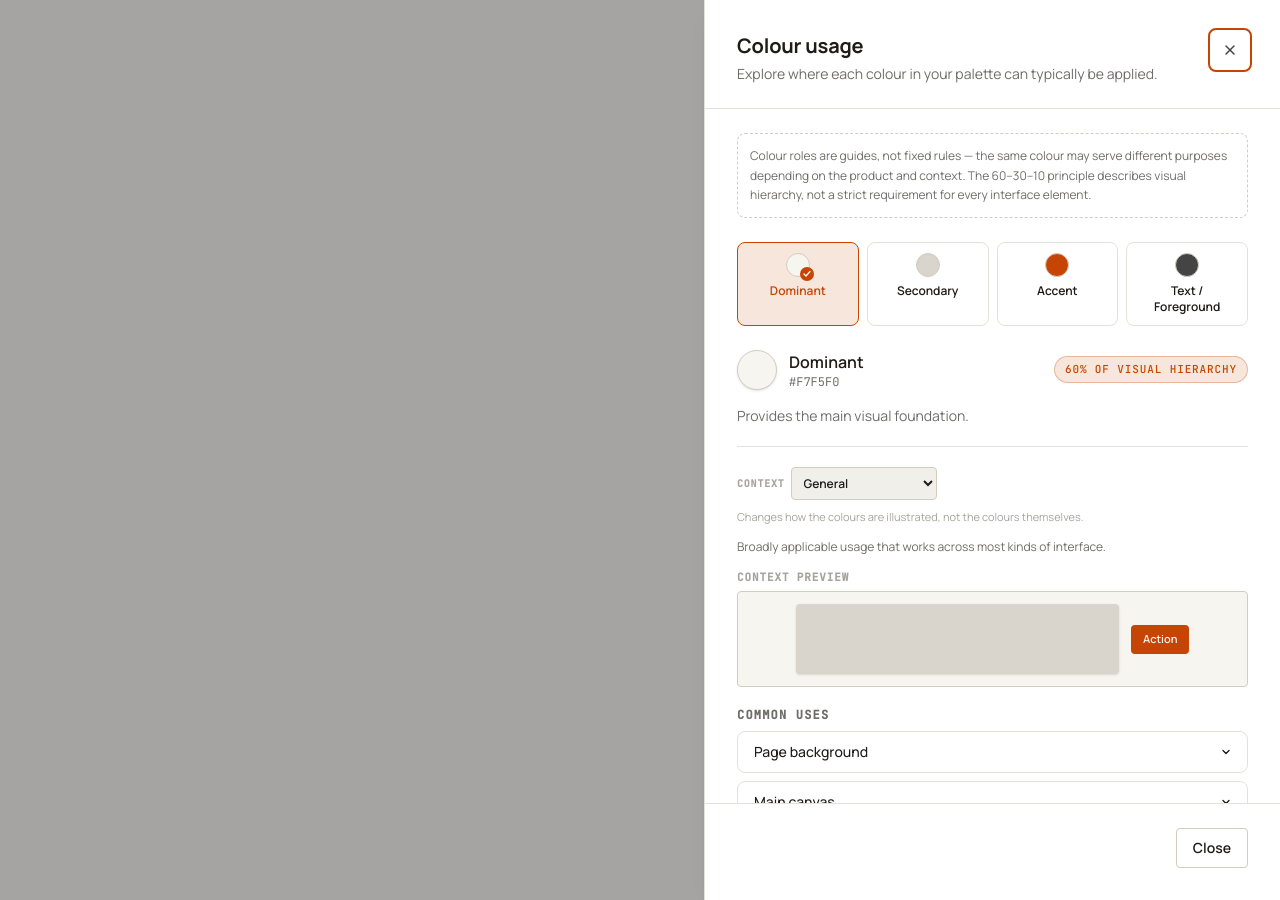
Scenario: ColourUsagePanel › selecting a role updates the detail panel, including for Text / Foreground being outside the ratio
Step 1. Click the tab "Text / Foreground" → (1187, 284), box [1126,242,1248,326]
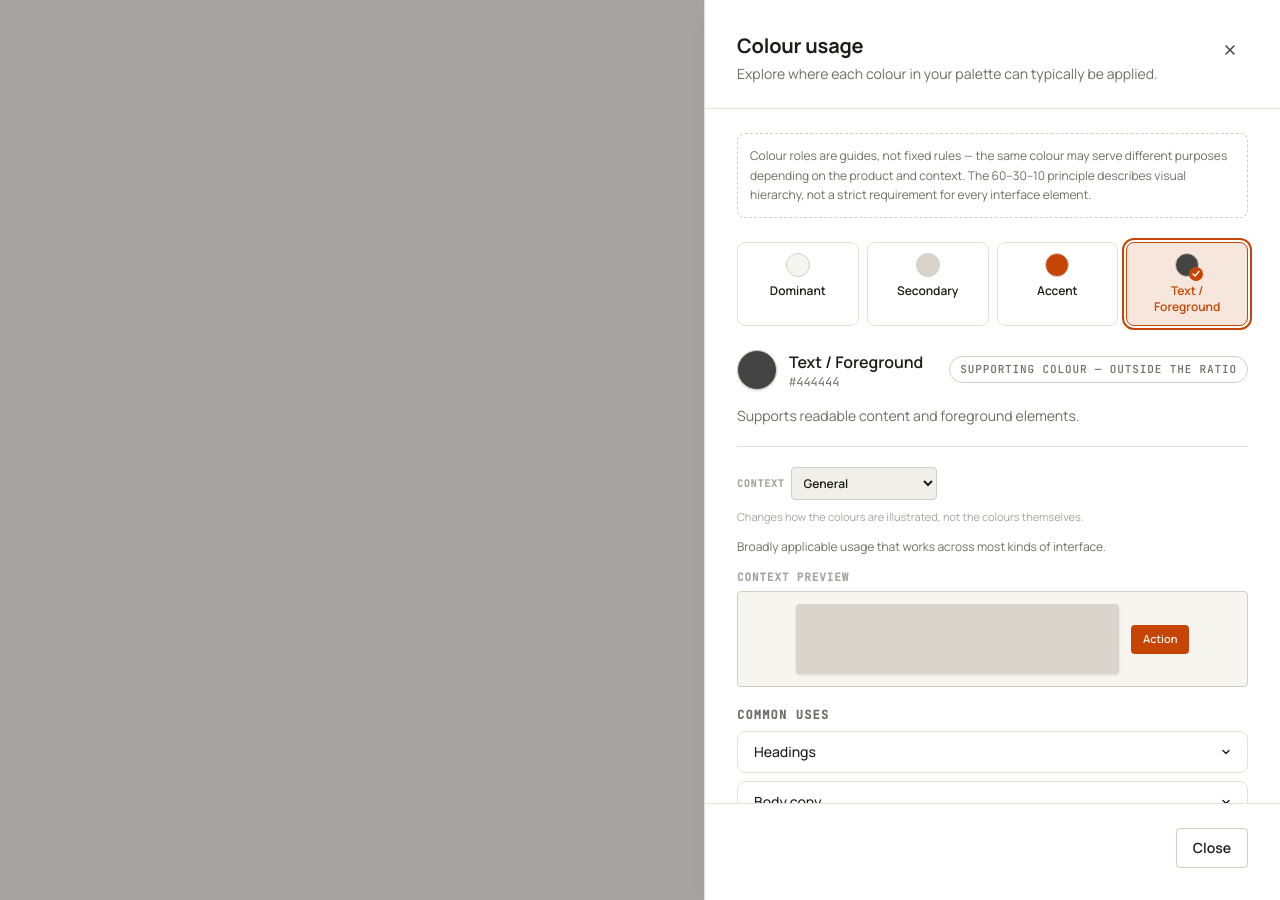
Check: the text "#444444" is shown, box [789,374,839,390]
Check: the text "Supporting colour — outside the ratio" is shown, box [949,356,1248,383]
Check: the heading "Headings" is shown, box [754,742,1231,761]
